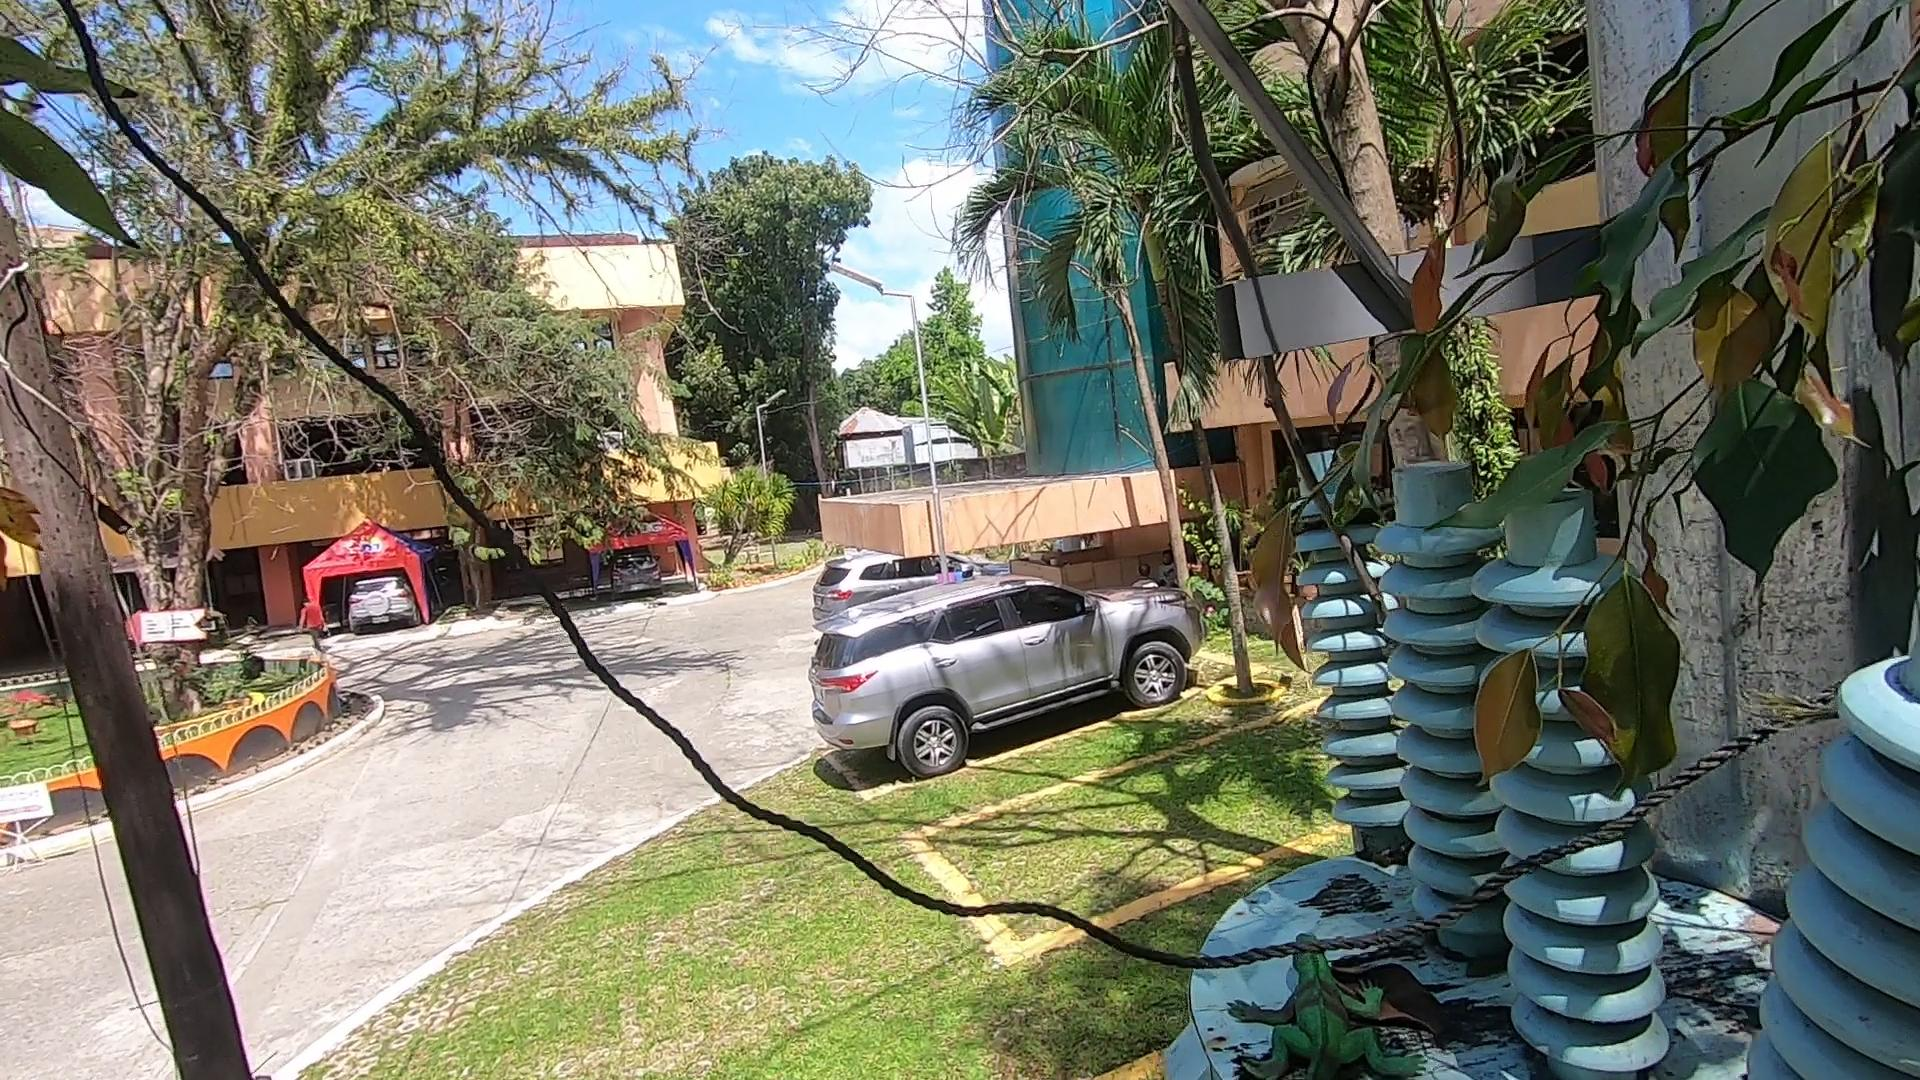branch with leaves: (1261, 119, 1905, 789)
tree branch: (1153, 5, 1381, 603)
